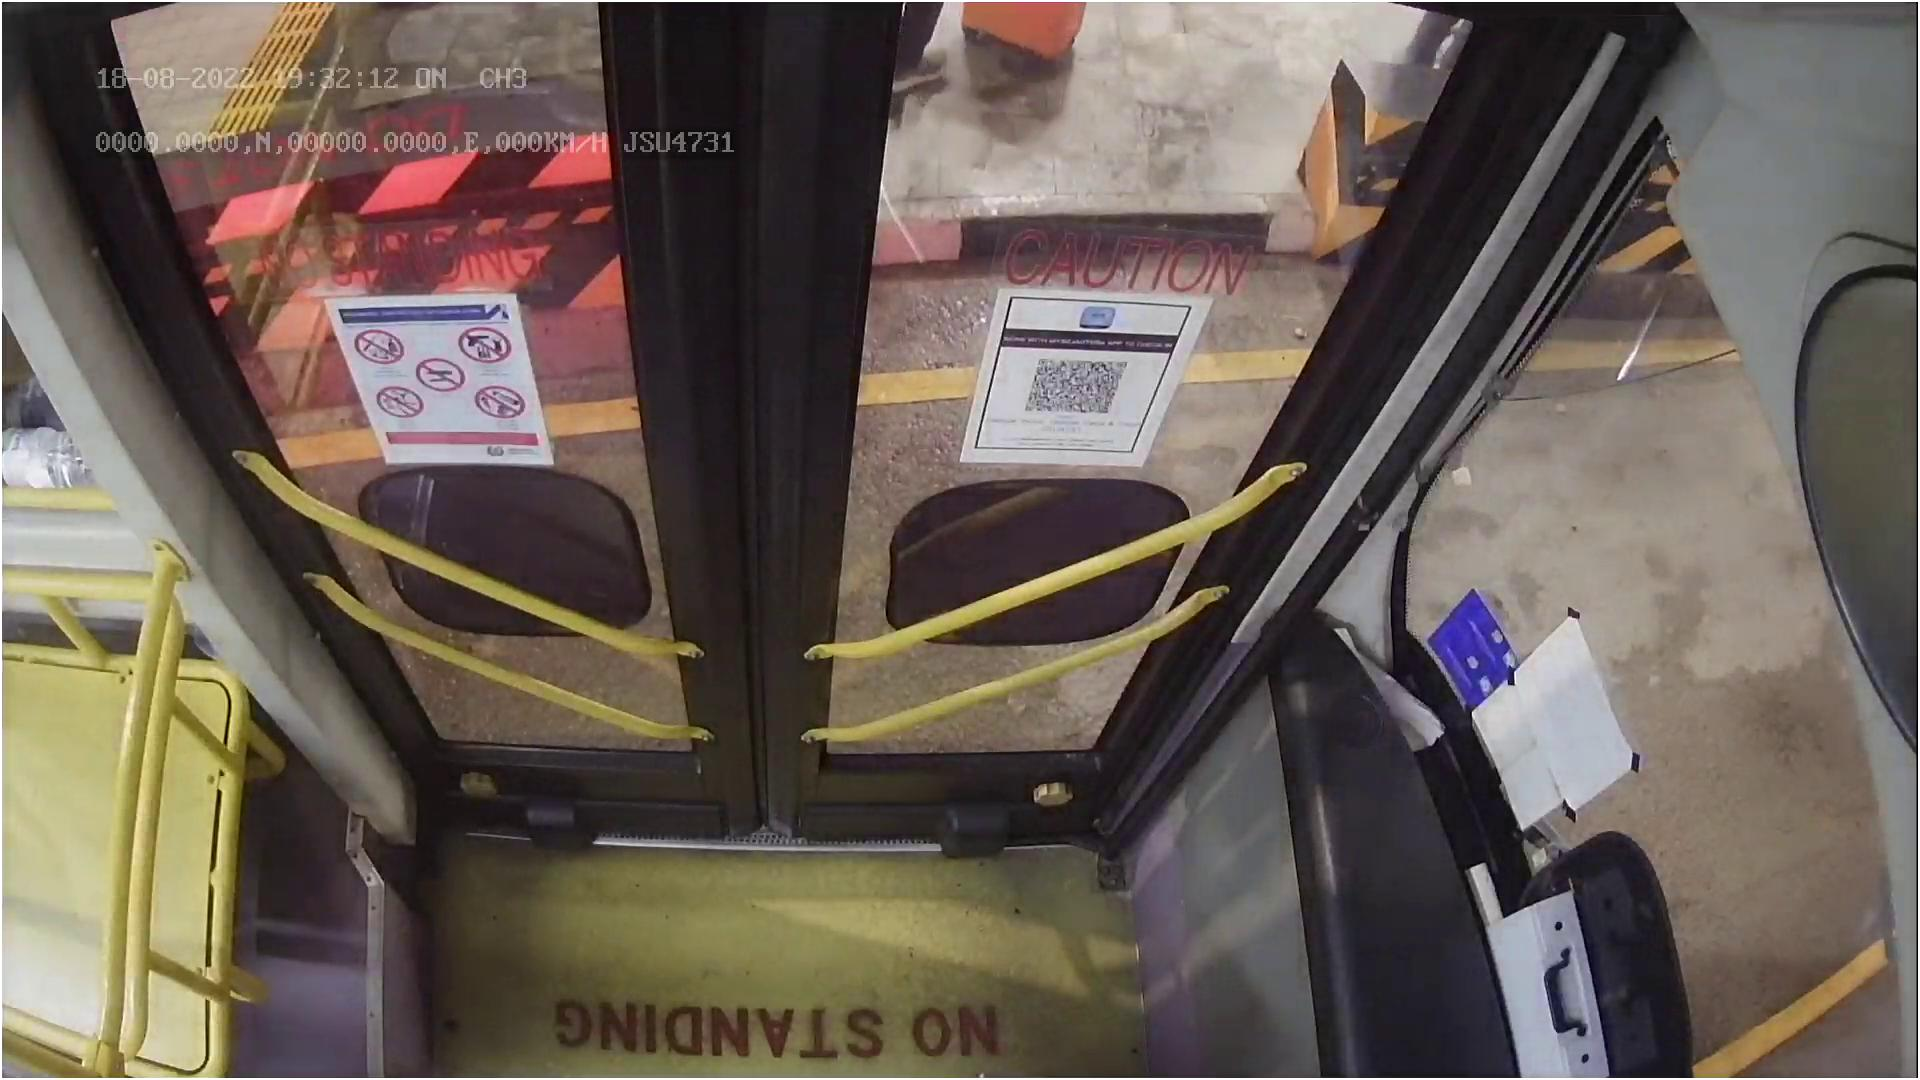close: (120, 0, 1440, 162)
